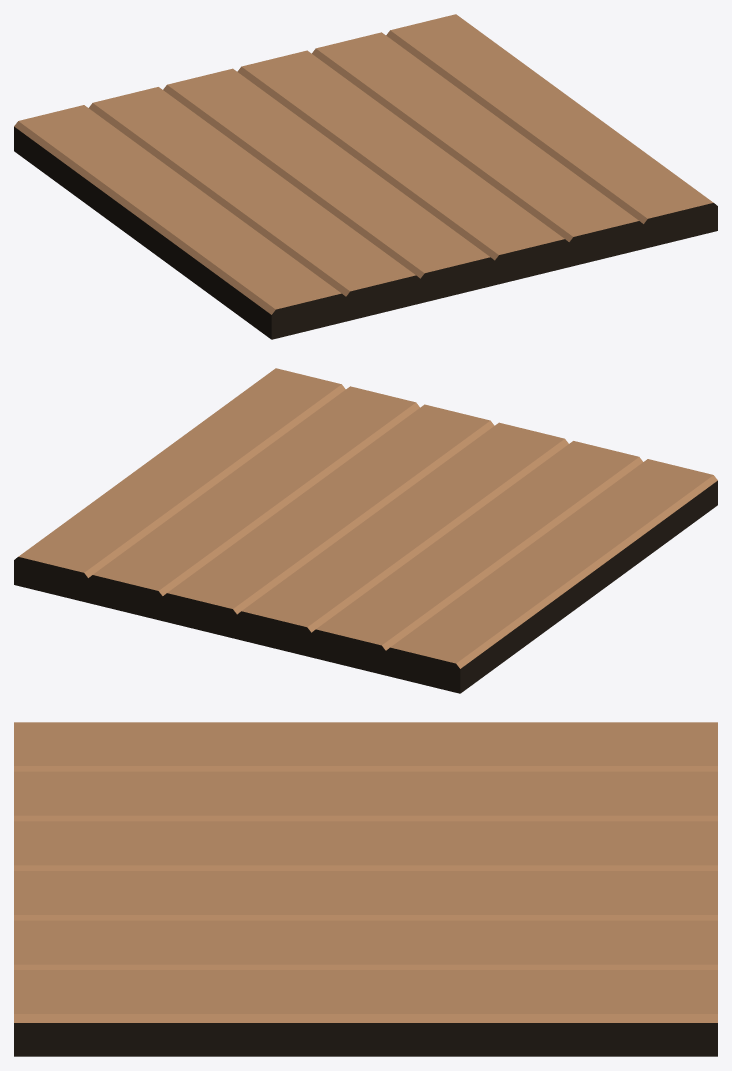
Rendered from Floor_2.fbx.
3 renders of one model, top to bottom at view 1: azimuth 30°, elevation 25°; view 2: azimuth 150°, elevation 25°; view 3: azimuth 270°, elevation 25°, orthographic. The views are drawn at different scales.
Parts seen in each view (by area): view 1: Cube.030; view 2: Cube.030; view 3: Cube.030.
Part boxes in pixels (box(x1,y1,x2,y2)): Cube.030: box(14, 14, 717, 339); Cube.030: box(14, 368, 717, 693); Cube.030: box(14, 722, 717, 1056).
Size of the model in its own units: 4 by 4 by 0.25.
